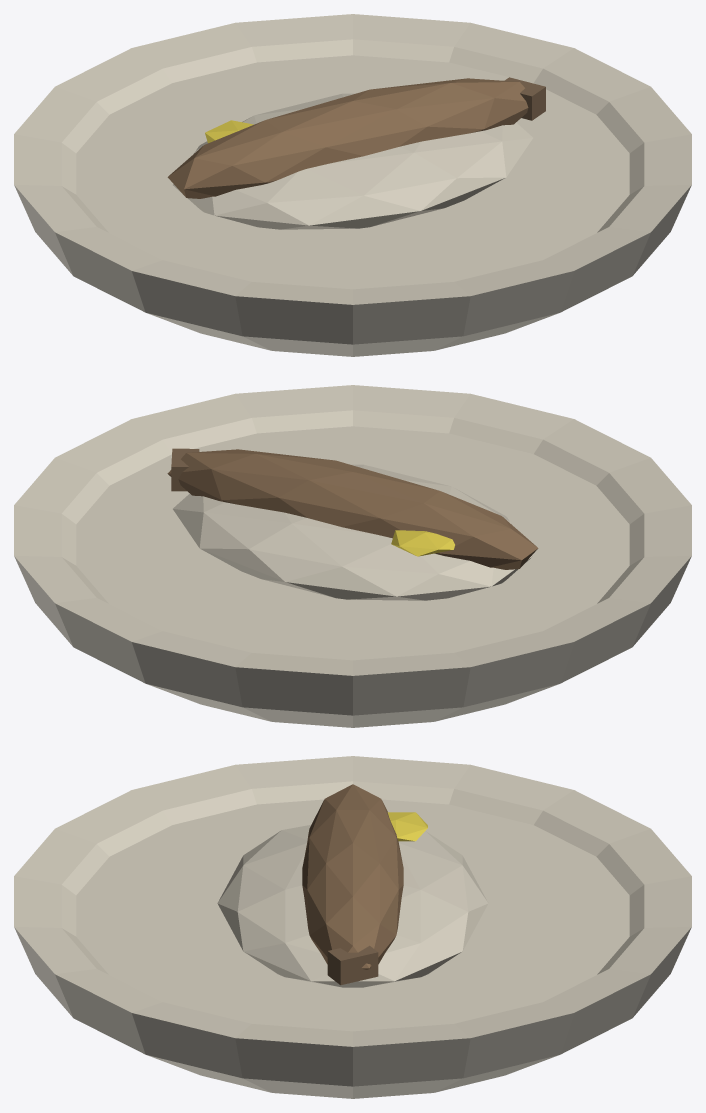
The model's file is Grilled_Fish.glb.
3 renders of one model, top to bottom at view 1: azimuth 30°, elevation 25°; view 2: azimuth 150°, elevation 25°; view 3: azimuth 270°, elevation 25°, orthographic.
Visible parts, largest first — view 1: _I_GrilledFish; view 2: _I_GrilledFish; view 3: _I_GrilledFish.
Part boxes in pixels (x1,y1,x2,y2): _I_GrilledFish: [14, 14, 691, 356]; _I_GrilledFish: [14, 385, 691, 727]; _I_GrilledFish: [14, 756, 691, 1098].
Size of the model in its own units: 0.64 by 0.18 by 0.6303.
